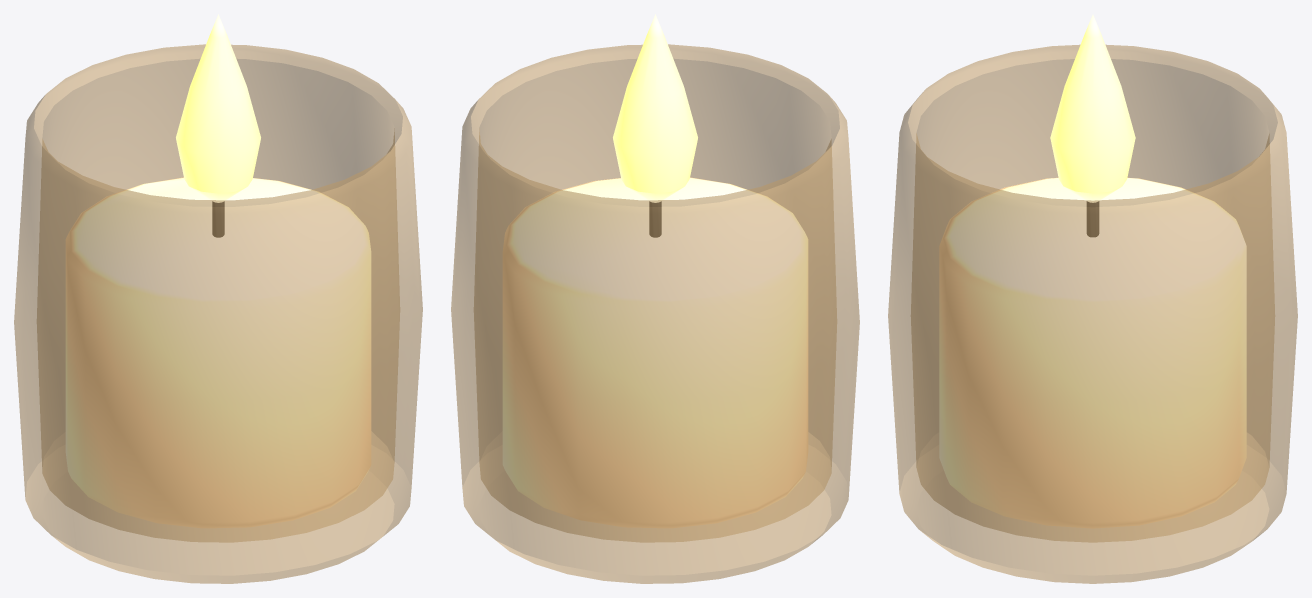
The model's file is candle.glb.
3 renders of one model, left to right at view 1: azimuth 30°, elevation 25°; view 2: azimuth 150°, elevation 25°; view 3: azimuth 270°, elevation 25°, orthographic.
Visible parts, largest first — view 1: Votive, Candle, Flame; view 2: Votive, Candle, Flame; view 3: Votive, Candle, Flame.
Boxes of the visible parts, box(x1,y1,x2,y2) form: Votive: box(14, 44, 422, 583); Candle: box(66, 177, 370, 527); Flame: box(176, 14, 260, 202); Votive: box(451, 44, 859, 583); Candle: box(503, 177, 807, 527); Flame: box(613, 14, 697, 202); Votive: box(888, 44, 1297, 583); Candle: box(939, 177, 1246, 528); Flame: box(1050, 14, 1135, 202).
Bounding box in the file's own units: 0.072 × 0.096 × 0.072.
